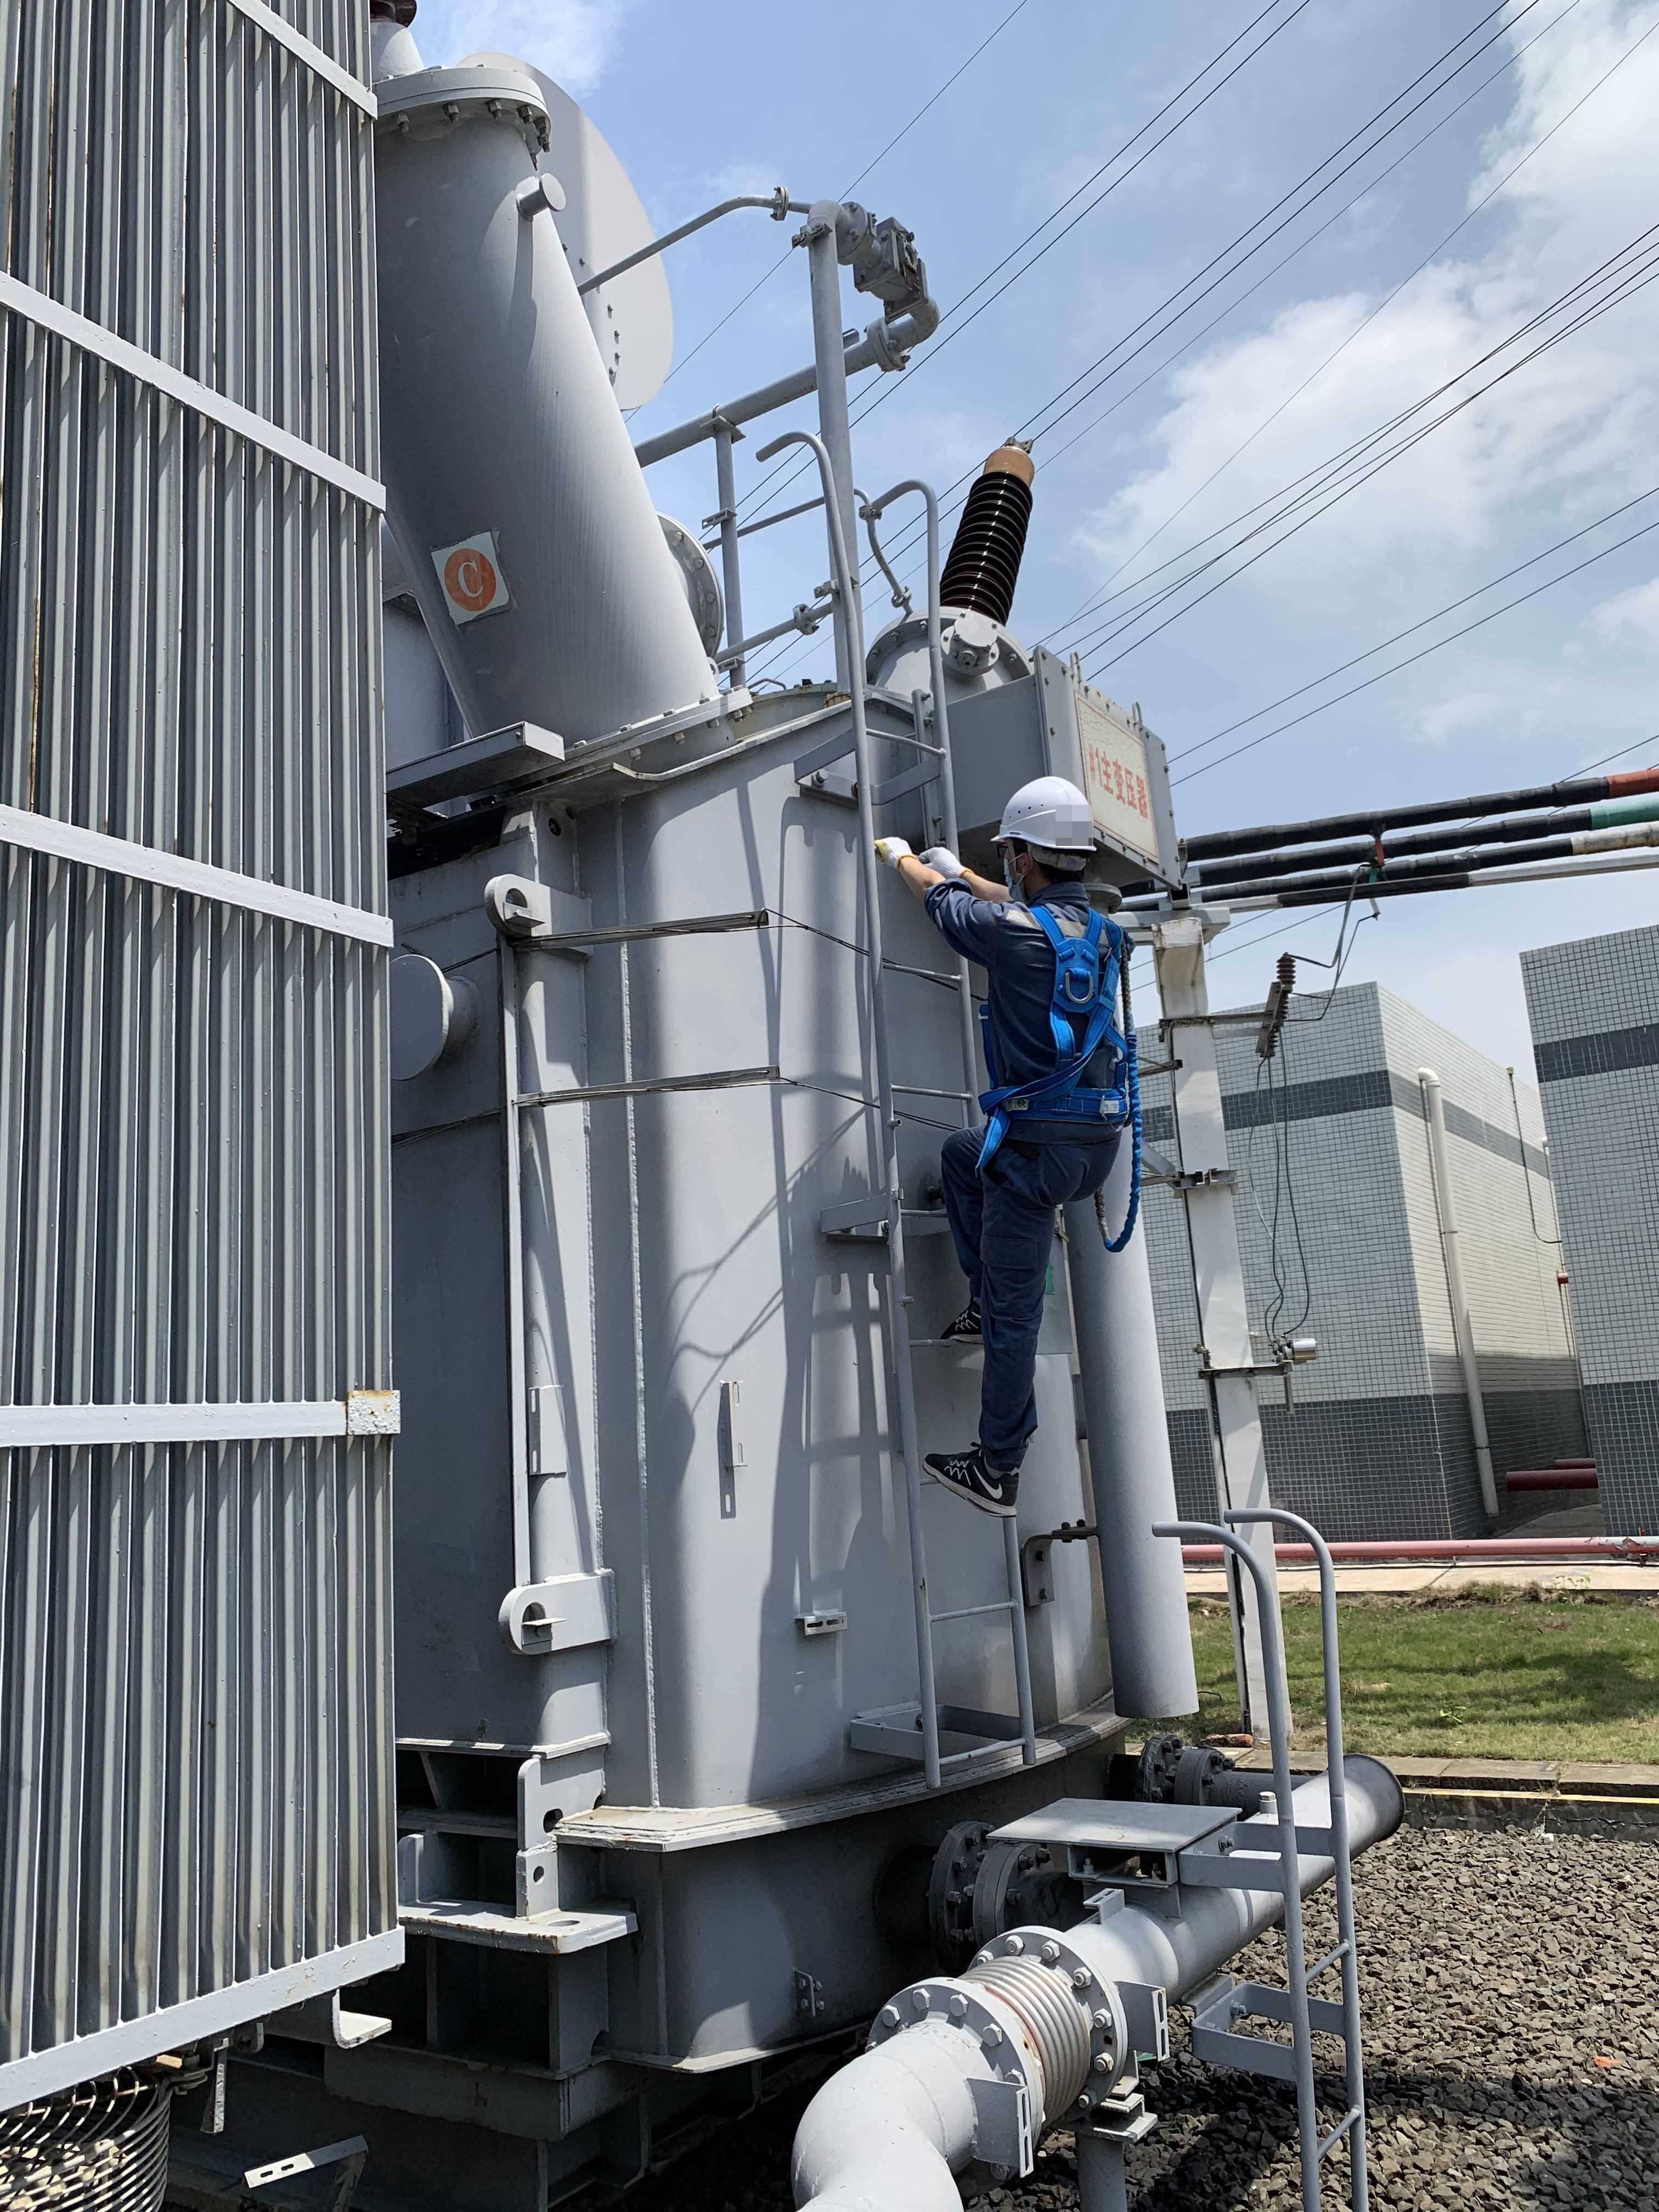downsuit: (939, 1137, 1122, 1461)
upsuit: (922, 885, 1154, 1118)
wrongtop: (896, 853, 1011, 902)
